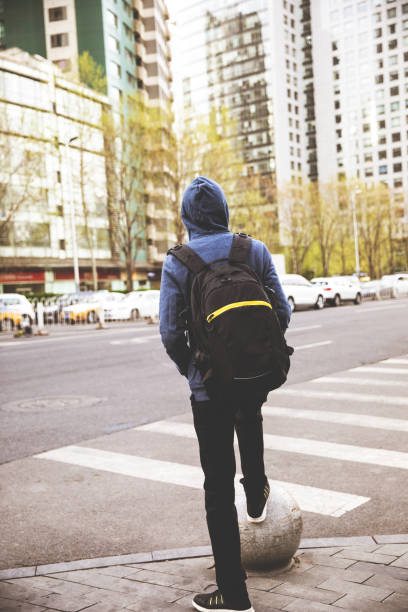yaya: (142, 164, 324, 611)
